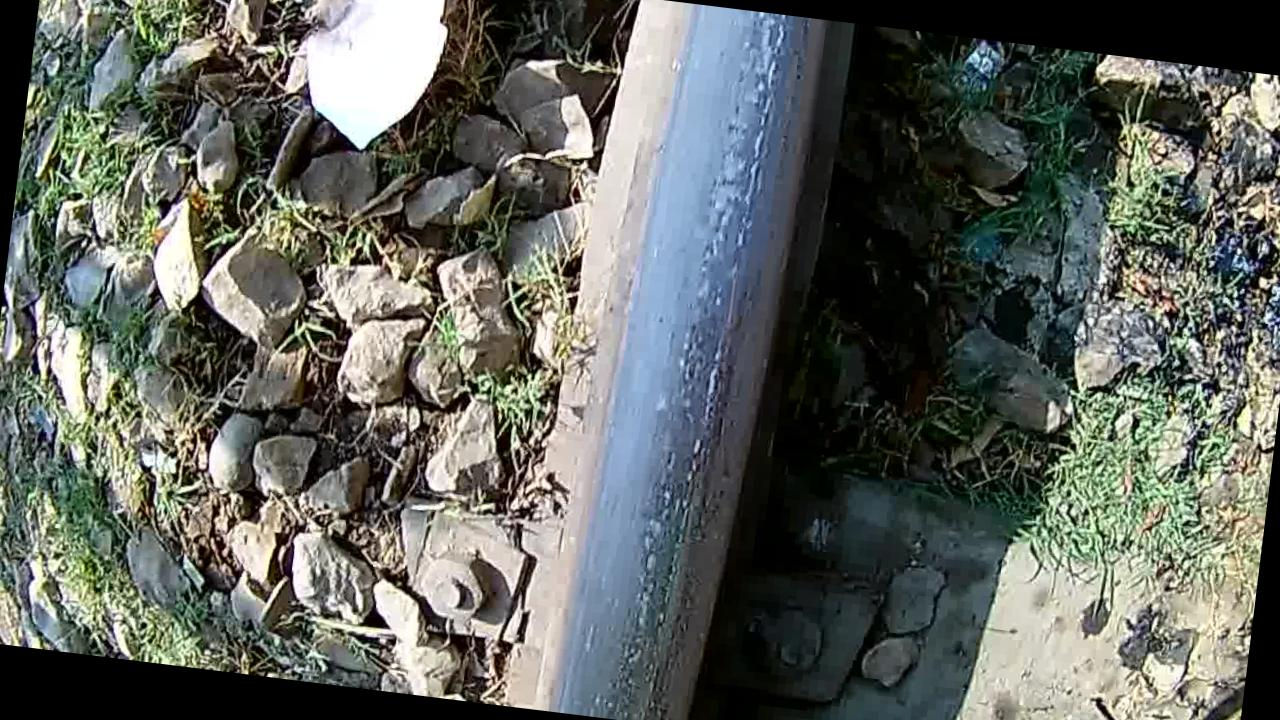clip_missing: (573, 2, 801, 720)
